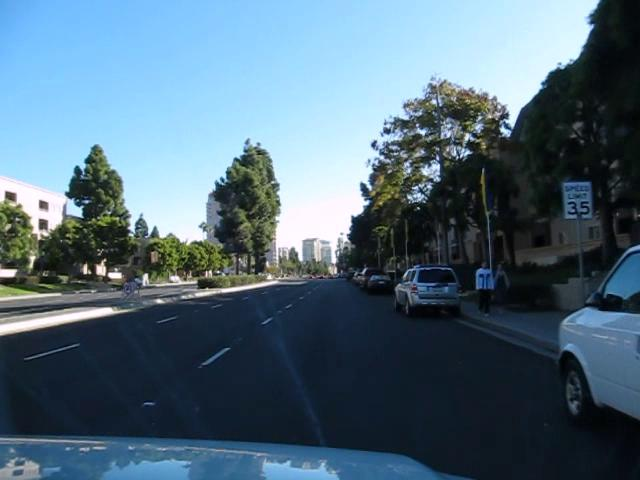speedLimit35: (560, 180, 594, 221)
